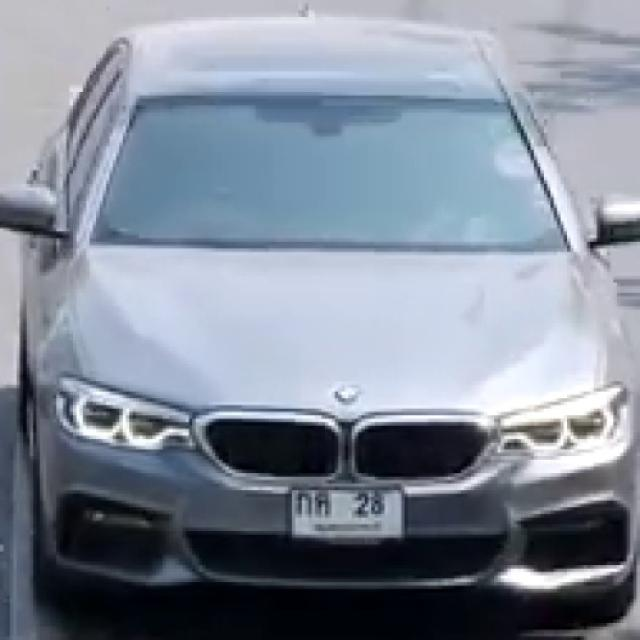plate: (291, 485, 406, 542)
